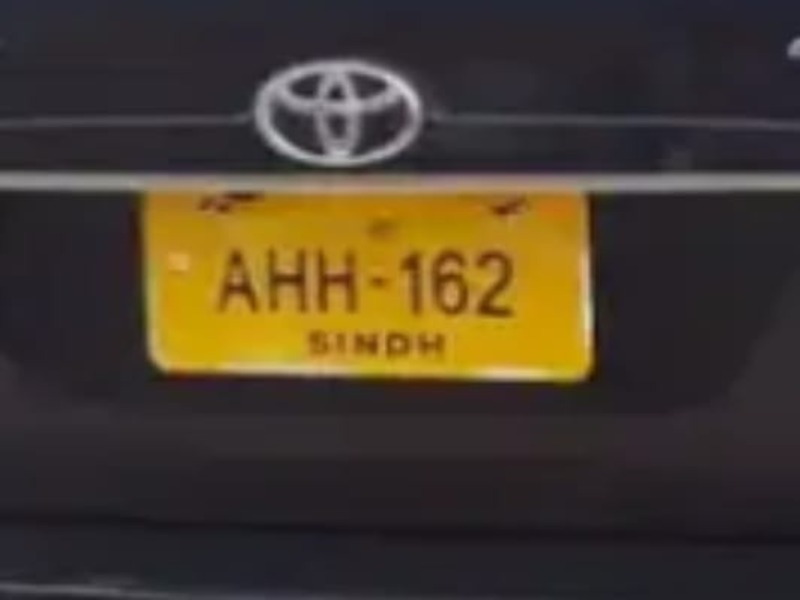License Plate: (140, 184, 593, 386)
